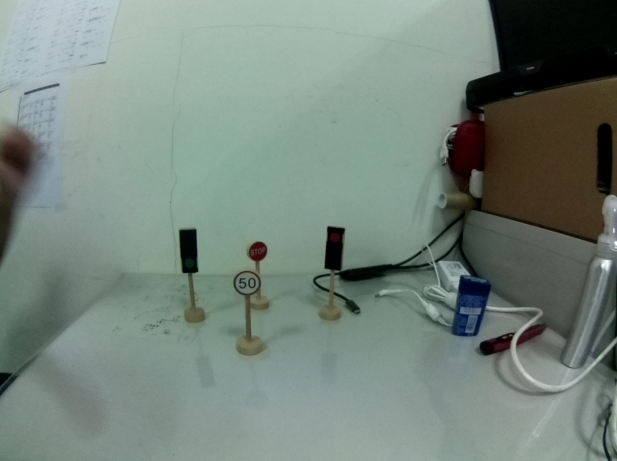Green: (174, 225, 203, 280)
Red: (321, 220, 346, 275)
Speed50: (233, 269, 262, 296)
Stop: (246, 240, 269, 263)
